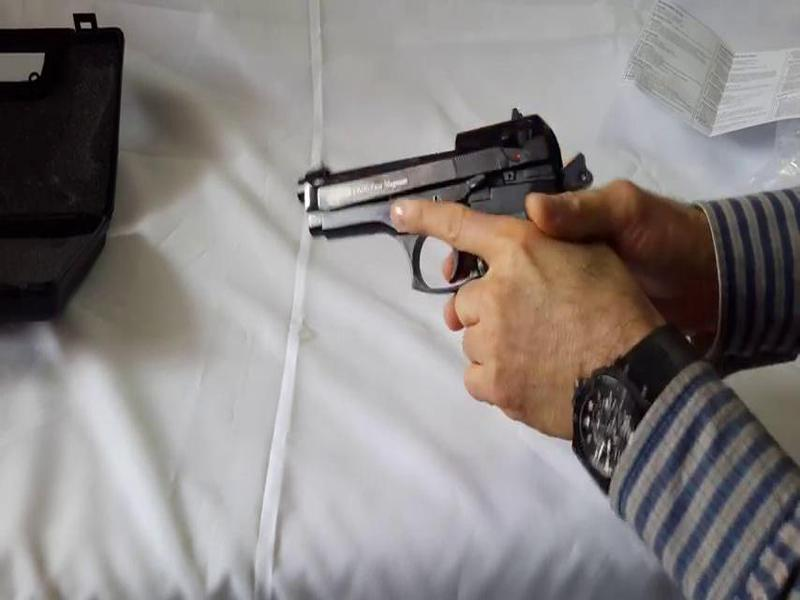Pistola: (294, 126, 600, 306)
